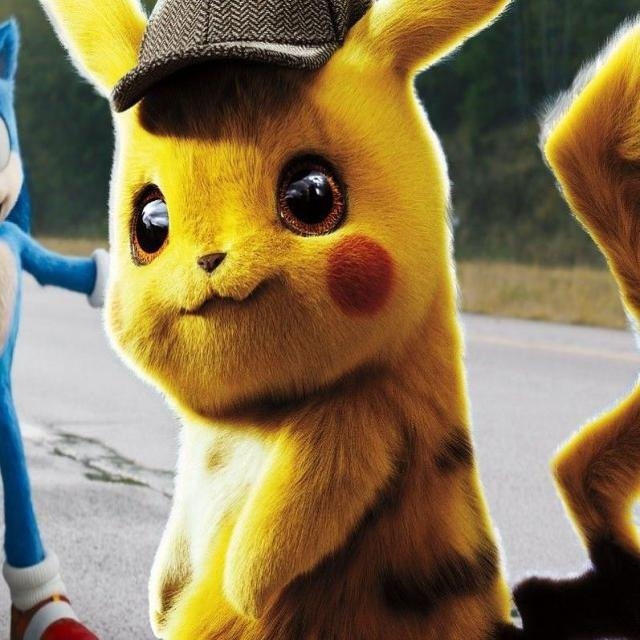pikachu: (40, 0, 639, 637)
